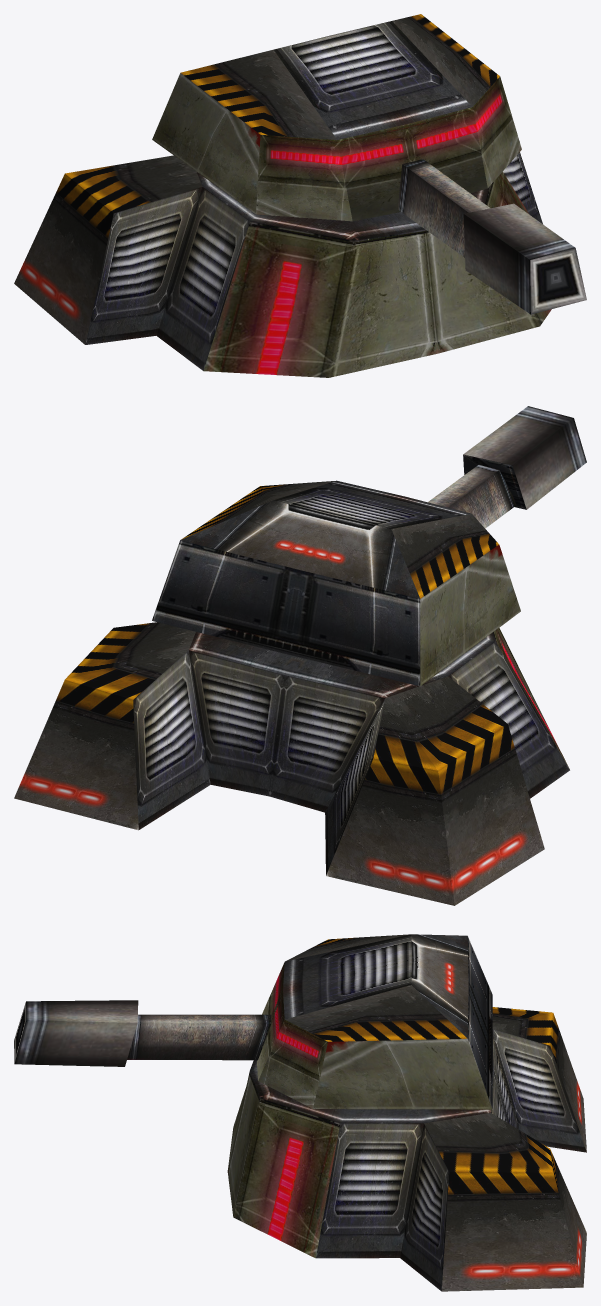
Rendered from turret-18.DAE.
3 renders of one model, top to bottom at view 1: azimuth 30°, elevation 25°; view 2: azimuth 150°, elevation 25°; view 3: azimuth 270°, elevation 25°, orthographic. The views are drawn at different scales.
Visible parts, largest first — view 1: turret-18; view 2: turret-18; view 3: turret-18.
Boxes of the visible parts, <box> form: turret-18: <box>14,14,586,377</box>; turret-18: <box>14,406,586,905</box>; turret-18: <box>14,934,586,1291</box>.
Bounding box in the file's own units: 3.55 × 4.37 × 1.96.
